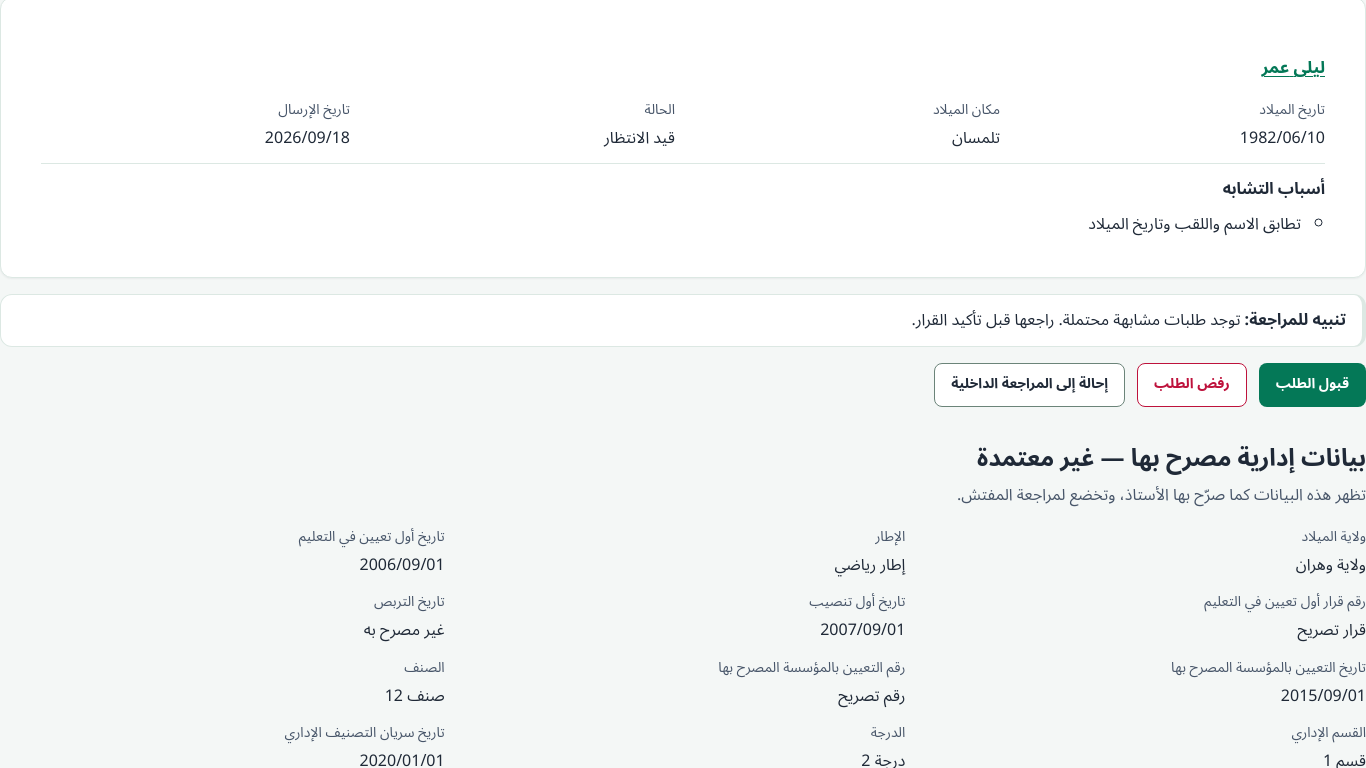
Test: TASK-032 submission detail UI › submits a real decision once, announces success, and reloads persisted status
(page scrolled)
Click the button "قبول الطلب" at x=1312, y=385, box [1259,363,1365,407]
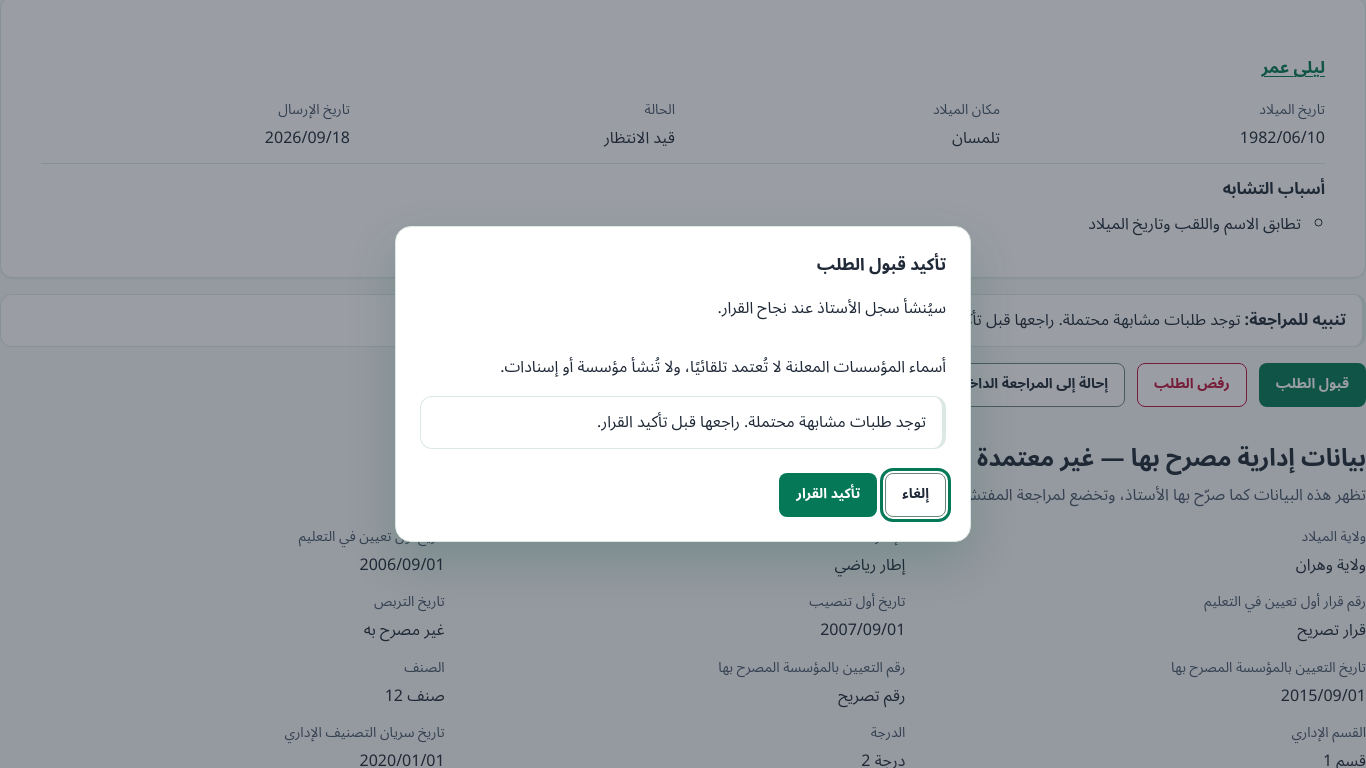
Click the button "تأكيد القرار" at x=828, y=495, box [779,473,877,517]
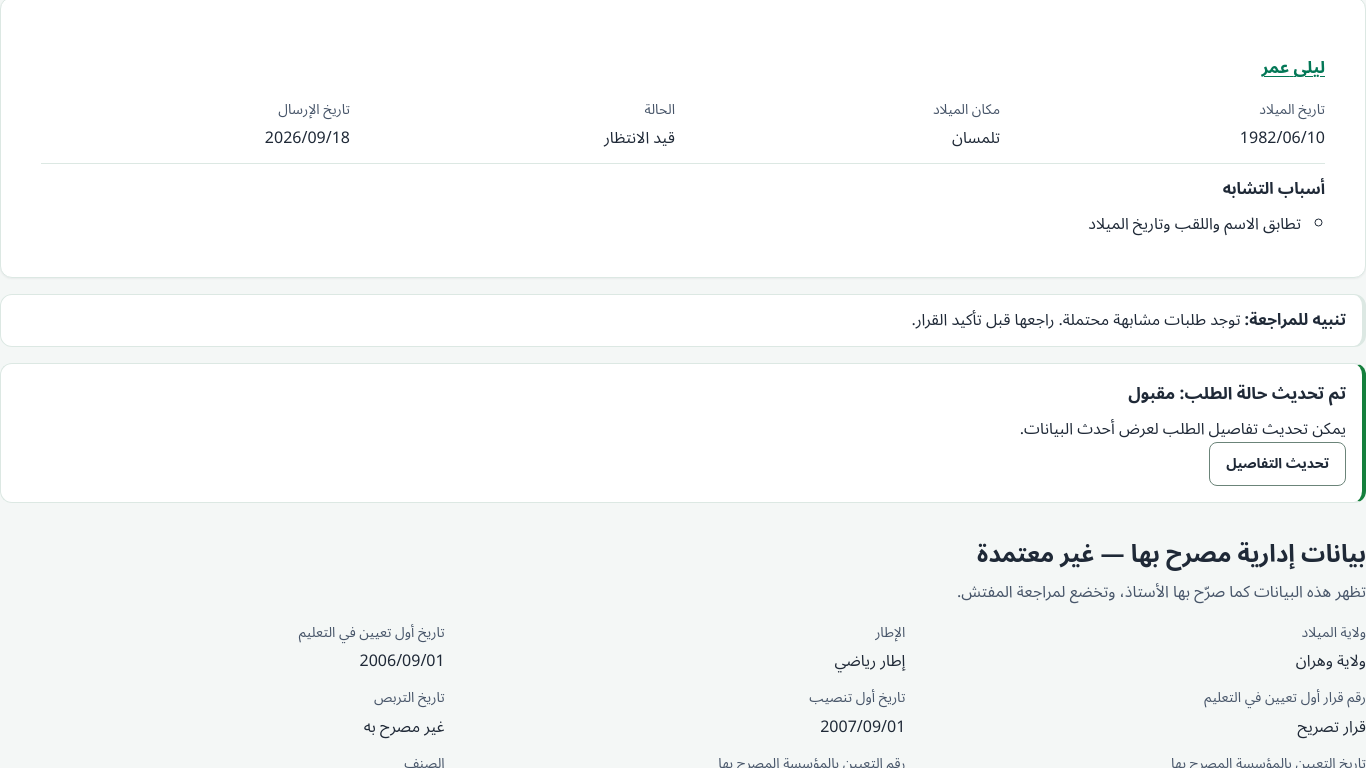
Check: the heading "تم تحديث حالة الطلب: مقبول" is shown, box [1128,376,1346,412]
Check: the button "قبول الطلب" is gone
Check: the button "رفض الطلب" is gone
